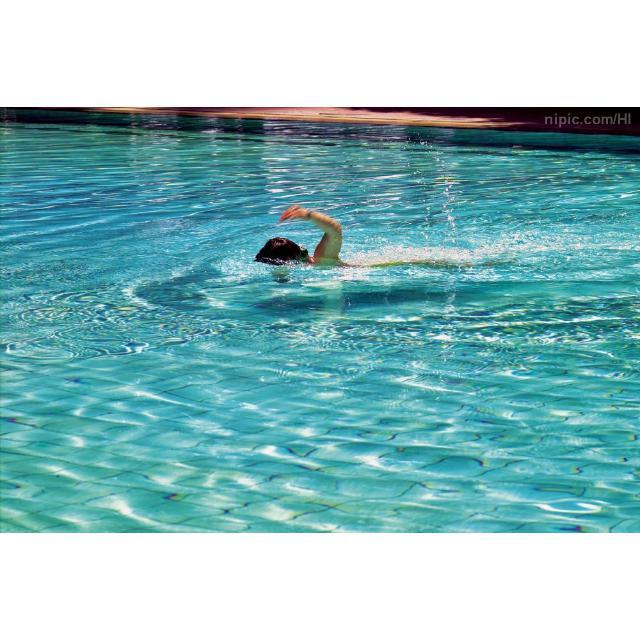human: (258, 204, 347, 271)
